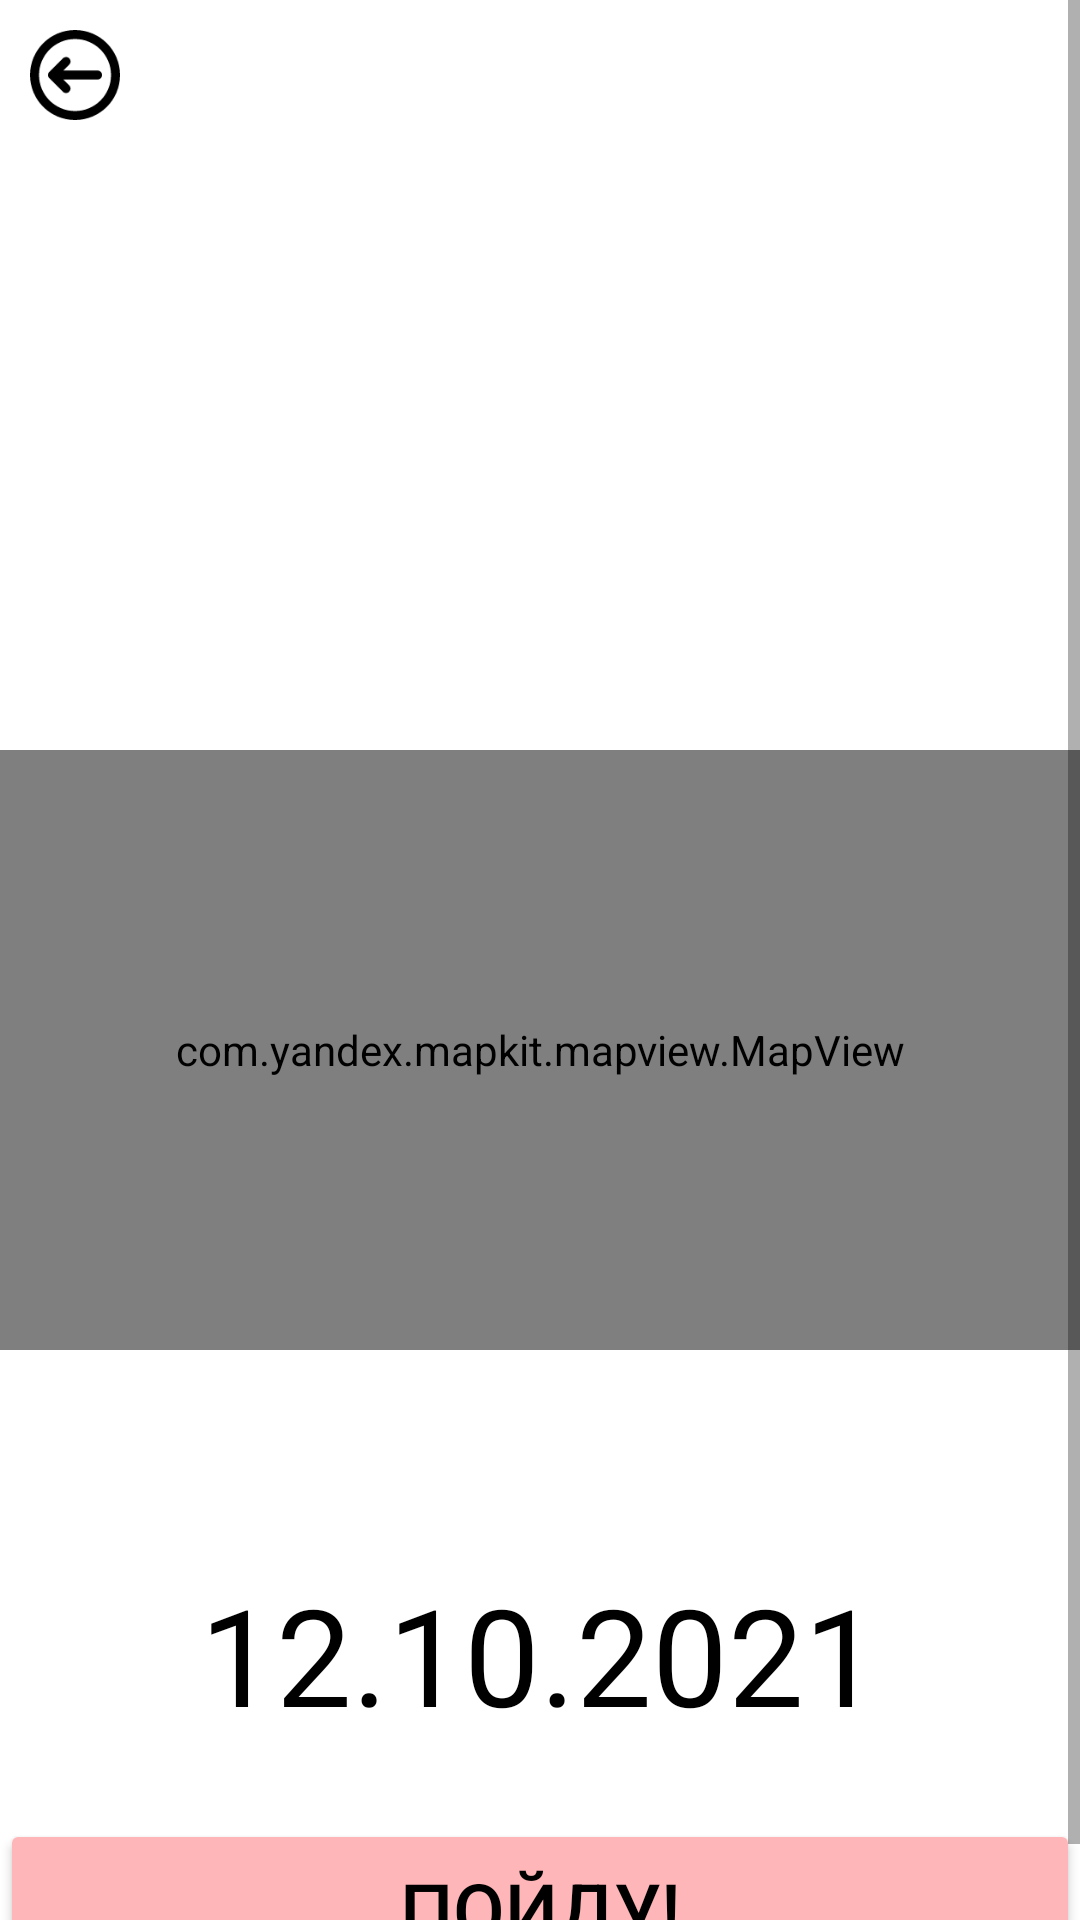

Icon bounding boxes for this 1080w x 1920h phone screenshot, format BBox(x1, y1, x2, y2):
go back: BBox(30, 30, 120, 120)
